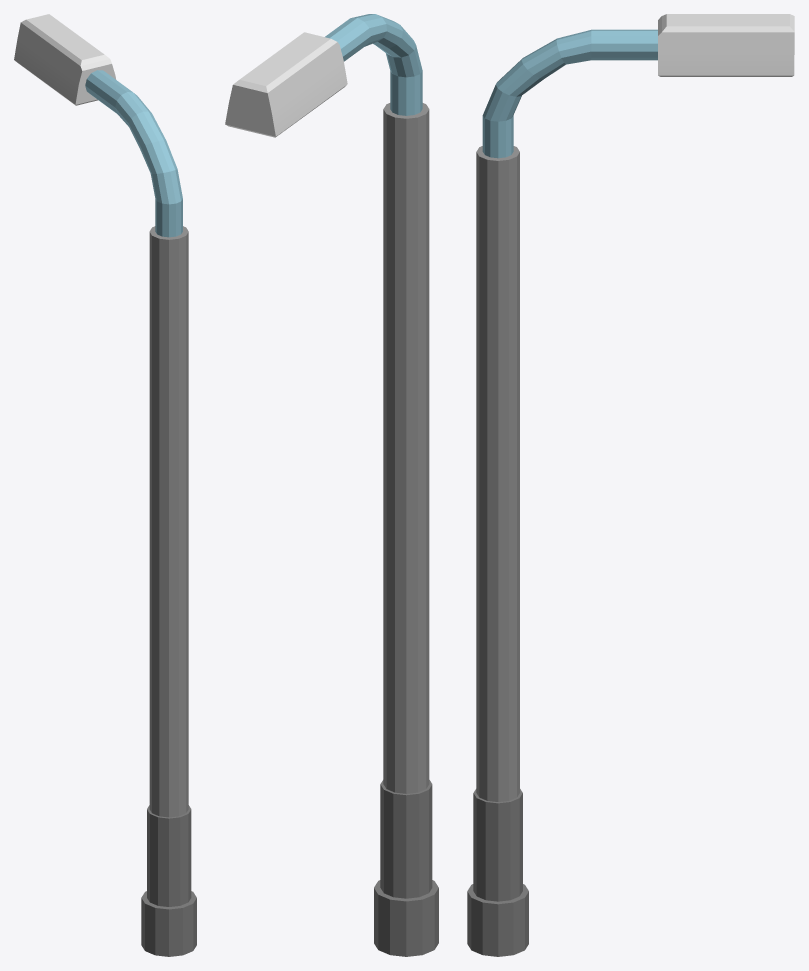
Rendered from Street Light_1.fbx.
The picture shows the model from 3 angles, left to right: view 1: azimuth 30°, elevation 25°; view 2: azimuth 150°, elevation 25°; view 3: azimuth 270°, elevation 25°; orthographic projection. The views are drawn at different scales.
Parts seen in each view (by area): view 1: Lantern; view 2: Lantern; view 3: Lantern.
Boxes of the visible parts, bbox=[...] form: Lantern: bbox=[14, 14, 196, 956]; Lantern: bbox=[225, 14, 438, 956]; Lantern: bbox=[467, 14, 794, 956].
Bounding box in the file's own units: 73.19 × 1208 × 388.
Materials: 1 (1 with a texture image).
